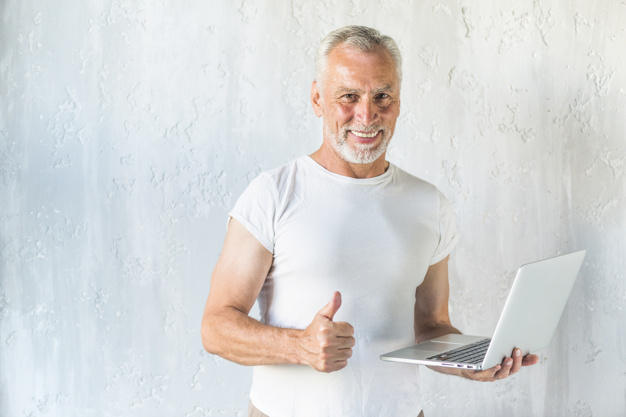thumbsup: (314, 290, 356, 373)
